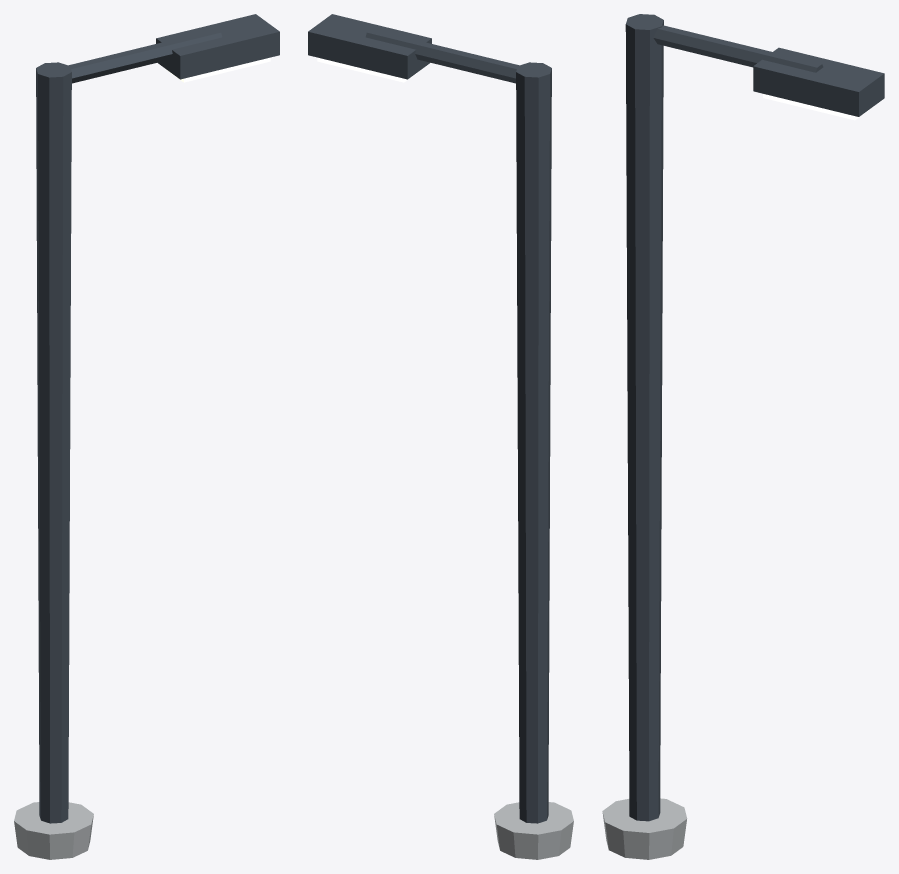
File: prop_lamp.glb
The picture shows the model from 3 angles, left to right: view 1: azimuth 30°, elevation 25°; view 2: azimuth 150°, elevation 25°; view 3: azimuth 330°, elevation 25°; orthographic projection. The views are drawn at different scales.
Visible parts, largest first — view 1: post.271, head.002, base.055, arm.002; view 2: post.271, head.002, base.055, arm.002; view 3: post.271, head.002, base.055, arm.002.
Part boxes in pixels (left/top/right/bottom): post.271: left=36, top=62, right=71, bottom=823; head.002: left=156, top=14, right=279, bottom=79; base.055: left=14, top=802, right=93, bottom=859; arm.002: left=68, top=29, right=222, bottom=83; post.271: left=516, top=62, right=551, bottom=823; head.002: left=308, top=14, right=431, bottom=79; base.055: left=494, top=802, right=573, bottom=859; arm.002: left=365, top=29, right=519, bottom=83; post.271: left=625, top=14, right=663, bottom=821; head.002: left=753, top=47, right=884, bottom=116; base.055: left=602, top=798, right=687, bottom=859; arm.002: left=653, top=25, right=823, bottom=72.
Bounding box in the file's own units: 1.54 × 4.6 × 0.44.
